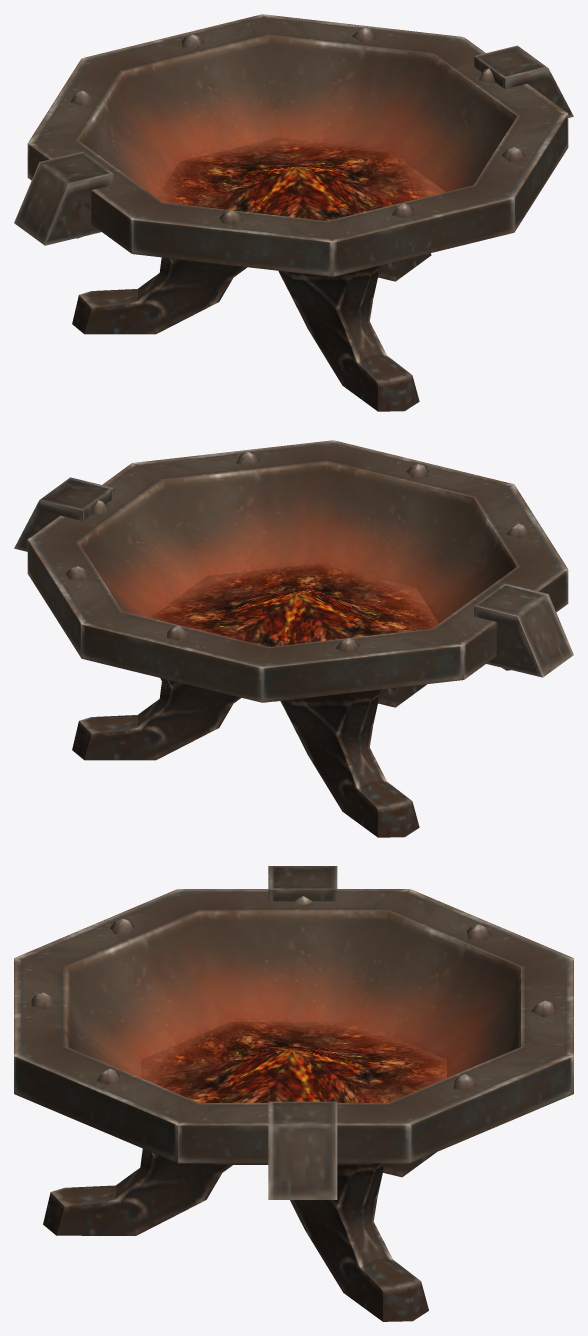
The model's file is huopen_60.FBX.
3 renders of one model, top to bottom at view 1: azimuth 30°, elevation 25°; view 2: azimuth 150°, elevation 25°; view 3: azimuth 270°, elevation 25°, orthographic. The views are drawn at different scales.
Parts seen in each view (by area): view 1: huopen_60; view 2: huopen_60; view 3: huopen_60.
Boxes of the visible parts, box(x1,y1,x2,y2) form: huopen_60: box(14, 14, 573, 411); huopen_60: box(14, 440, 573, 837); huopen_60: box(14, 866, 573, 1321).
Size of what is drawn, in the model's own units: 141 by 53.37 by 117.
